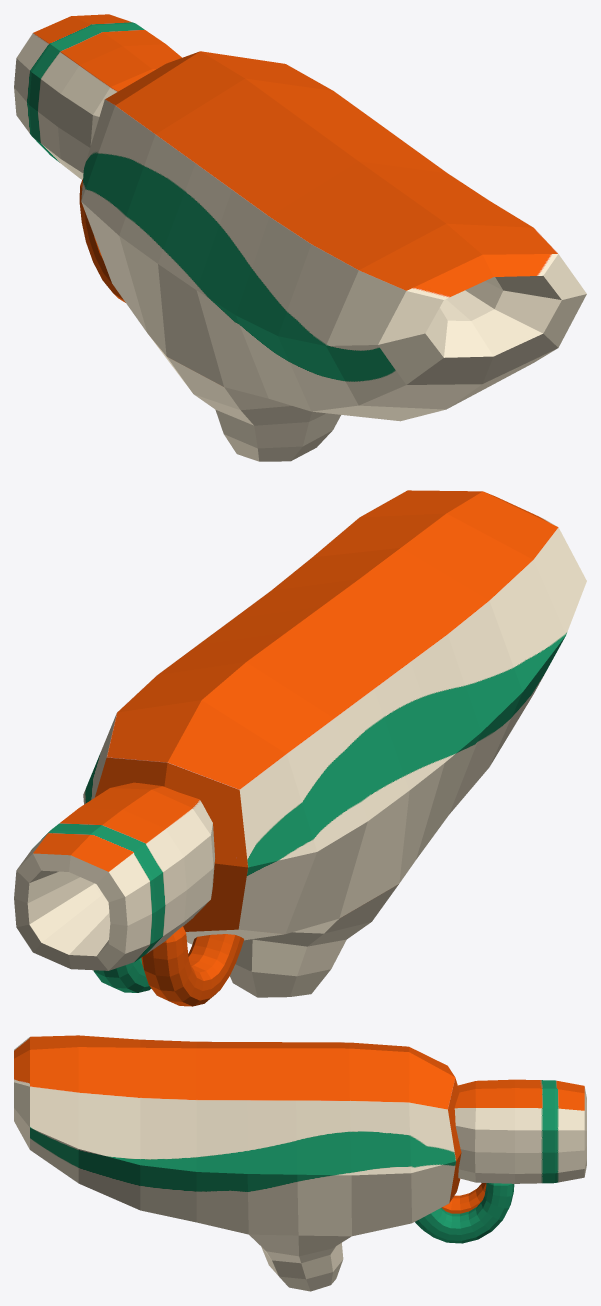
Rendered from MintyGun.fbx.
3 renders of one model, top to bottom at view 1: azimuth 30°, elevation 25°; view 2: azimuth 150°, elevation 25°; view 3: azimuth 270°, elevation 25°, orthographic. The views are drawn at different scales.
Parts seen in each view (by area): view 1: Cube.000, Cube.006, Cube.005; view 2: Cube.000, Cube.006, Cube.005, Cube.007; view 3: Cube.000, Cube.006, Cube.007, Cube.005.
Boxes of the visible parts, left/top/right/bottom form: Cube.000: left=81, top=51, right=586, bottom=461; Cube.006: left=14, top=14, right=181, bottom=179; Cube.005: left=79, top=179, right=125, bottom=302; Cube.000: left=83, top=490, right=586, bottom=997; Cube.006: left=14, top=782, right=214, bottom=970; Cube.005: left=141, top=926, right=243, bottom=1006; Cube.007: left=93, top=958, right=151, bottom=992; Cube.000: left=14, top=1035, right=461, bottom=1291; Cube.006: left=454, top=1079, right=586, bottom=1183; Cube.007: left=415, top=1183, right=514, bottom=1243; Cube.005: left=441, top=1183, right=486, bottom=1213.
Bounding box in the file's own units: 29.26 × 39.77 × 85.98.
